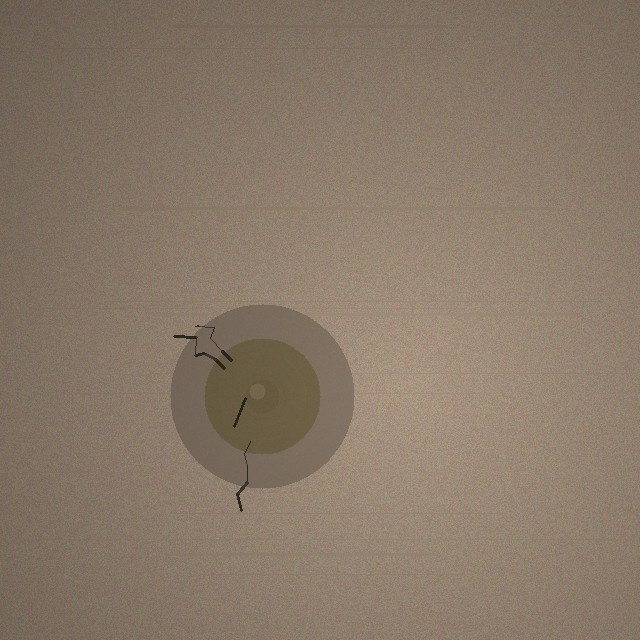crack: (170, 304, 354, 488)
